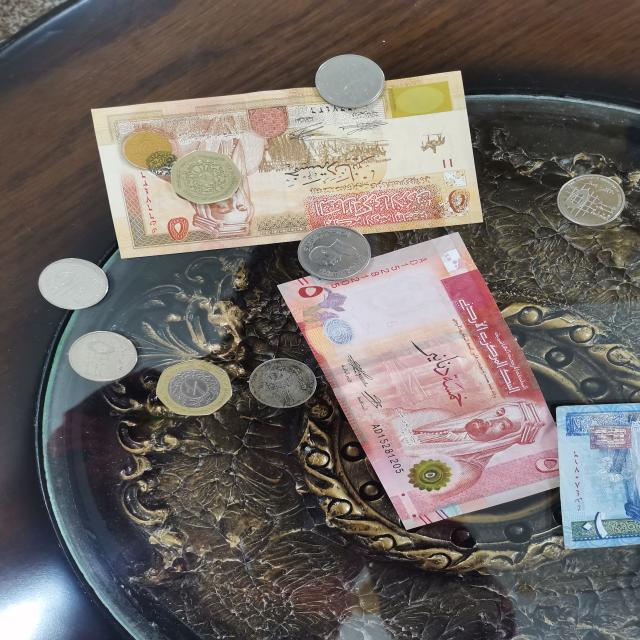10-coins: (297, 225, 372, 280)
10-dinar: (555, 403, 640, 548)
25-coins: (170, 150, 242, 205)
5-coins: (555, 172, 628, 228), (36, 256, 110, 311), (314, 53, 386, 108), (66, 329, 139, 382), (248, 357, 318, 409)
5-dinar: (277, 232, 590, 532), (92, 70, 485, 258)
50-coins: (155, 359, 235, 418)
